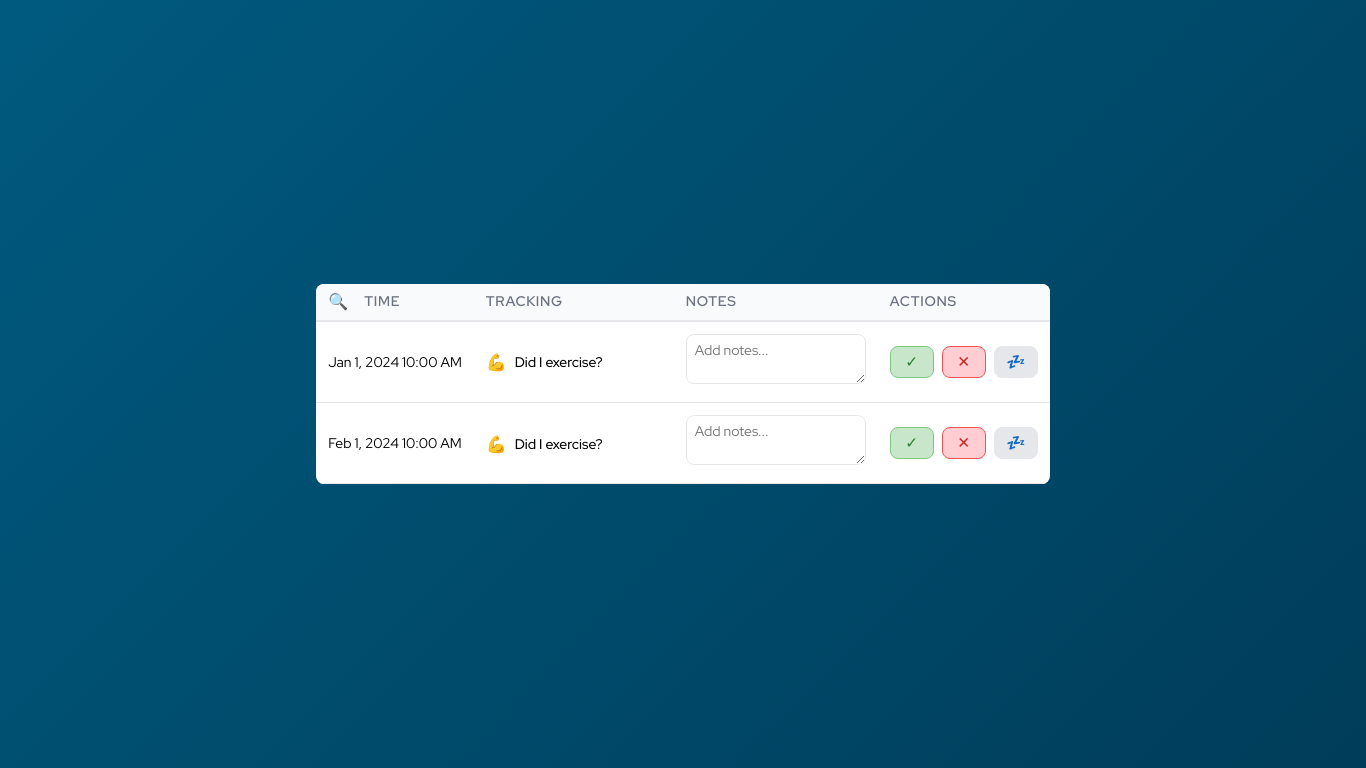
Scenario: RemindersList › should filter reminders by time
# Open filters
Click the button named "show filters" at [338, 302], box [328, 290, 348, 314]
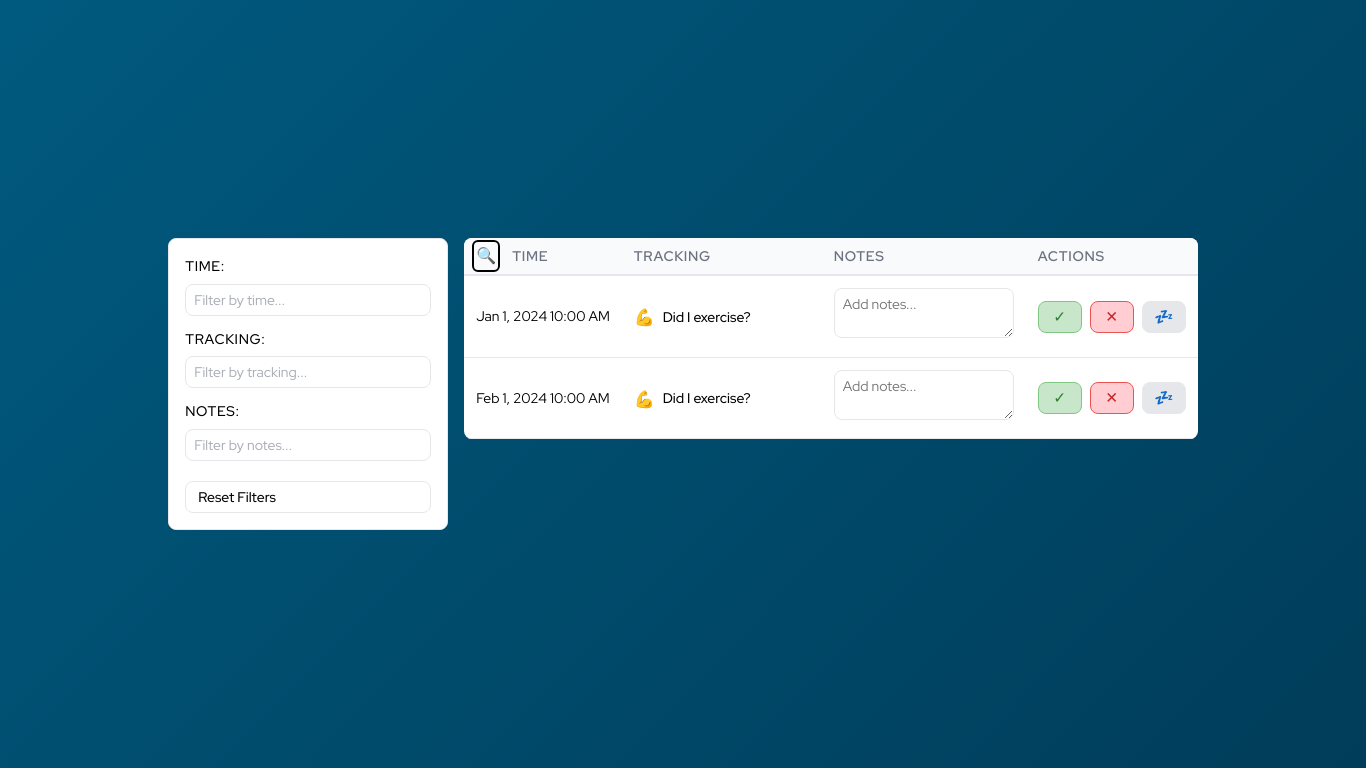
# Filter by time - use "Jan" to match January date format (formatted as "Jan 1, 2024 10:00 AM")
Type "Jan" into the field named "Filter by time" at [308, 300], box [185, 284, 431, 316]
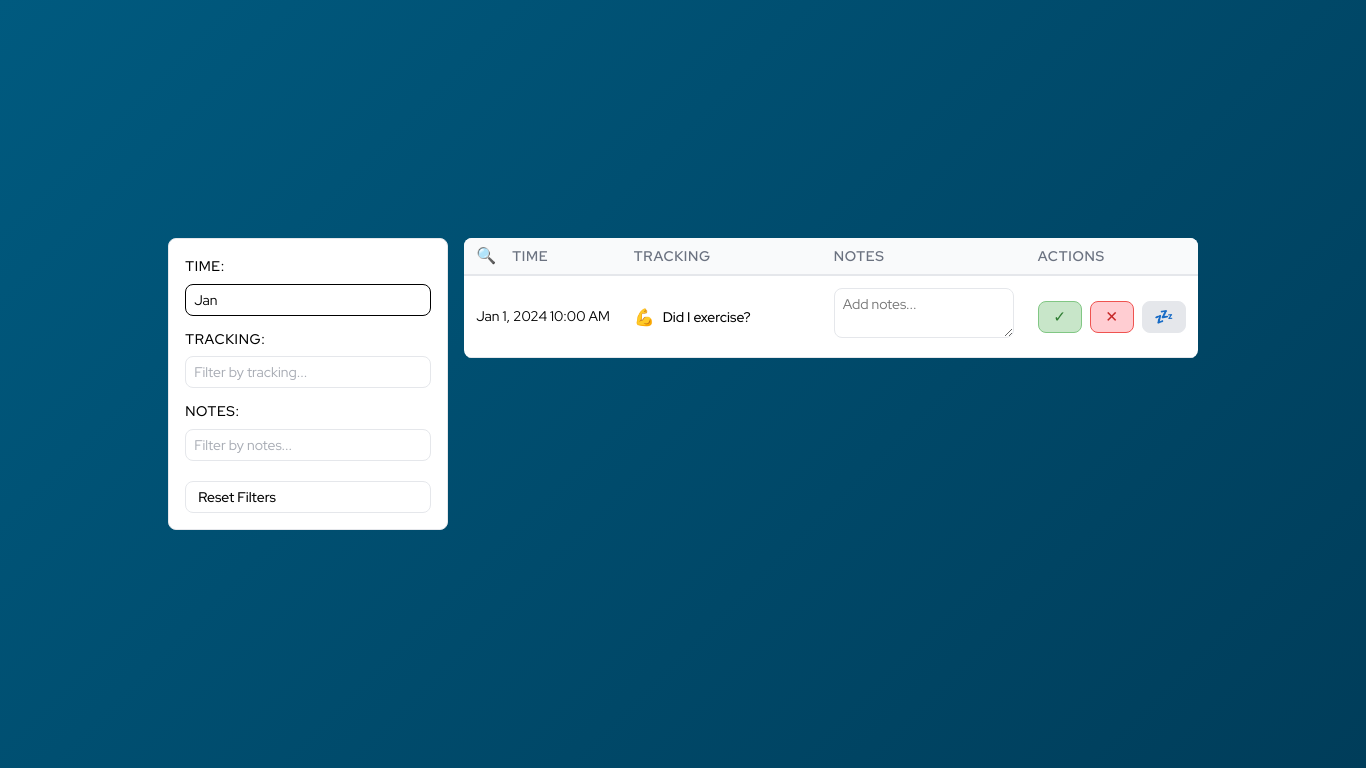
Expected: the text "Did I exercise?" is shown 2 times
